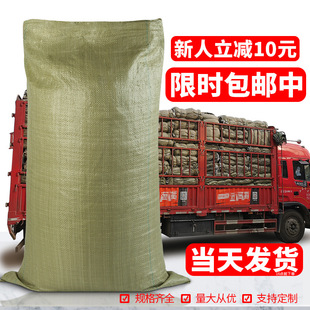Parcel: (1, 19, 190, 291)
